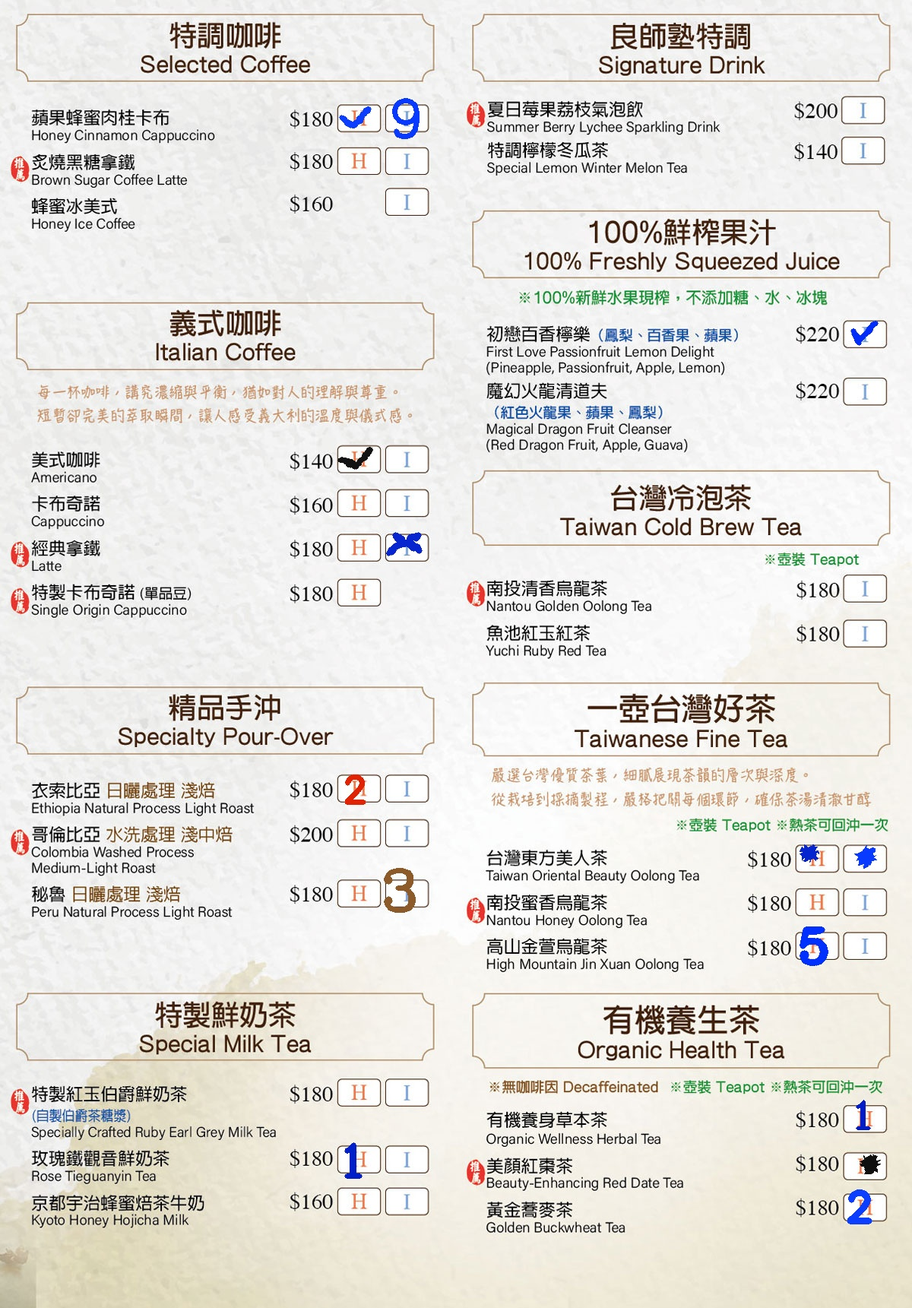marked_circle: (846, 1153, 885, 1177), (844, 845, 883, 869), (796, 845, 835, 869)
marked_number_1: (340, 1146, 379, 1170), (846, 1106, 885, 1129)
marked_number_2: (339, 776, 378, 800), (845, 1194, 884, 1218)
marked_number_3: (387, 881, 426, 904)
marked_number_5: (798, 933, 837, 956)
marked_number_9: (388, 107, 427, 131)
marked_tick: (845, 321, 884, 345), (339, 106, 378, 129), (340, 447, 378, 470)
marked_x: (388, 535, 426, 559)
